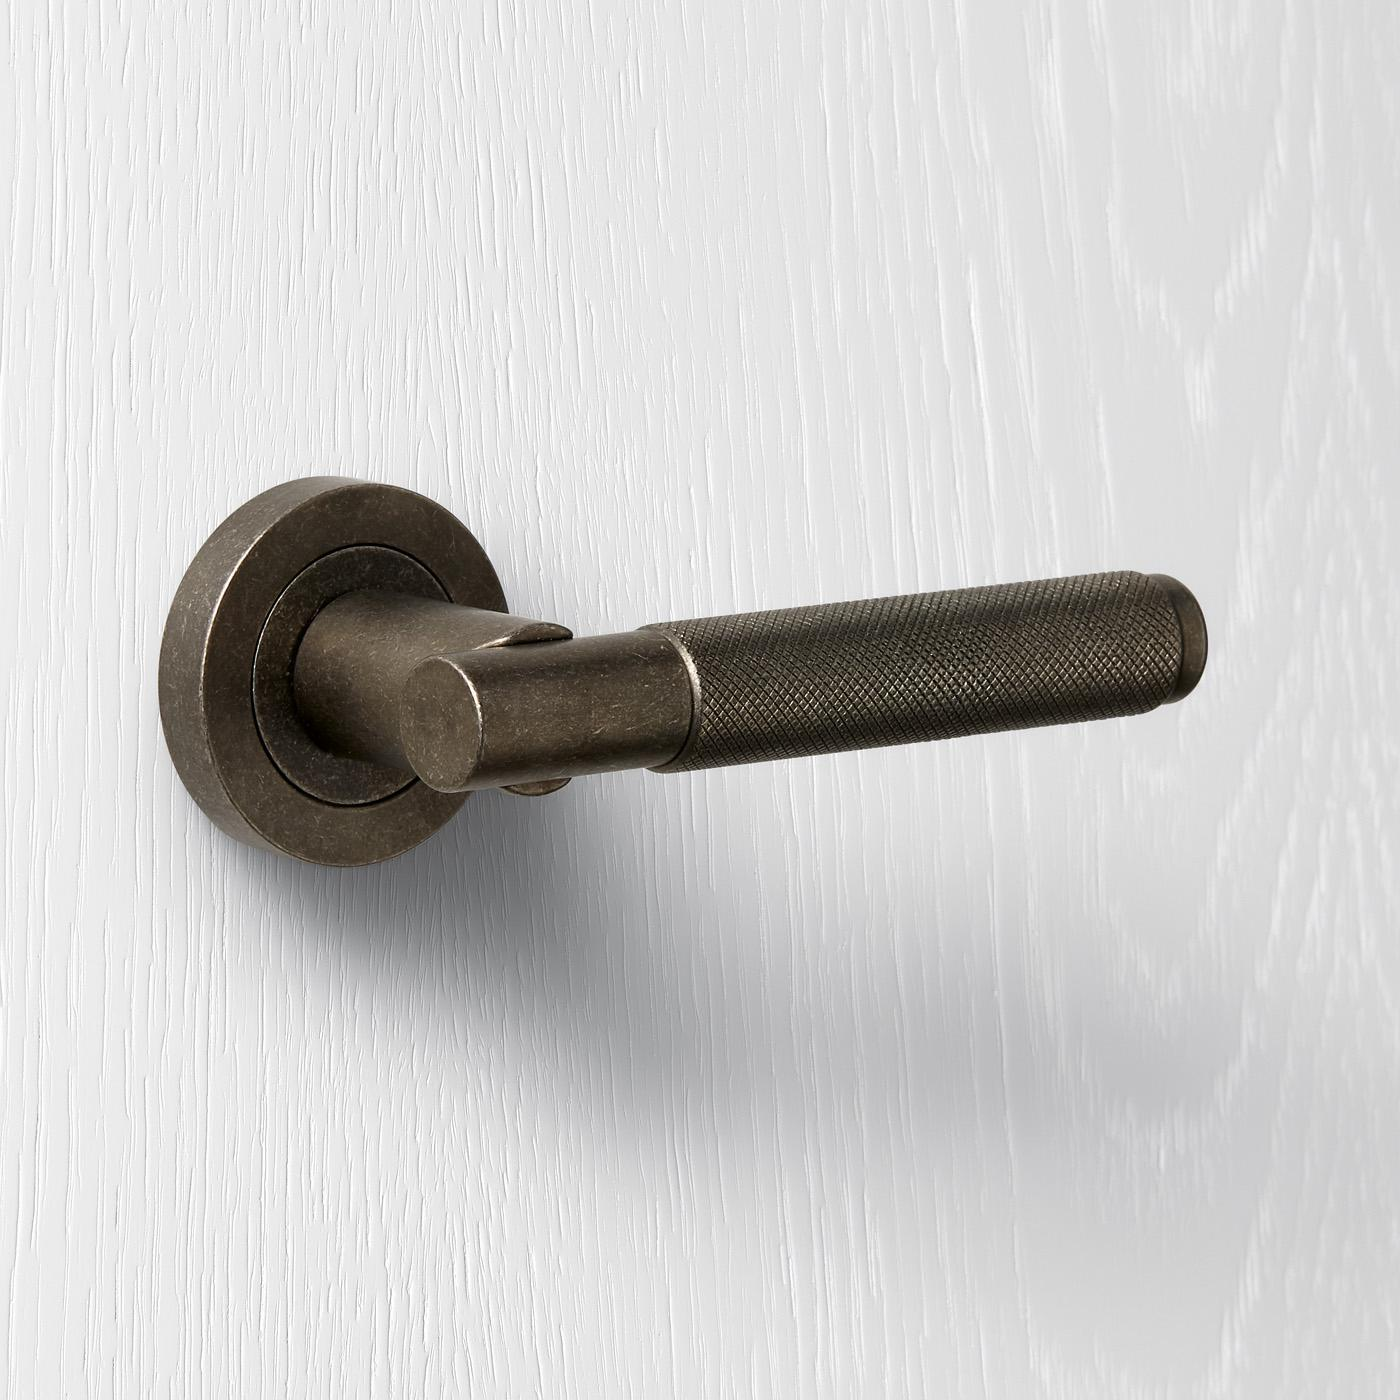doorhandle: (228, 471, 1244, 874)
